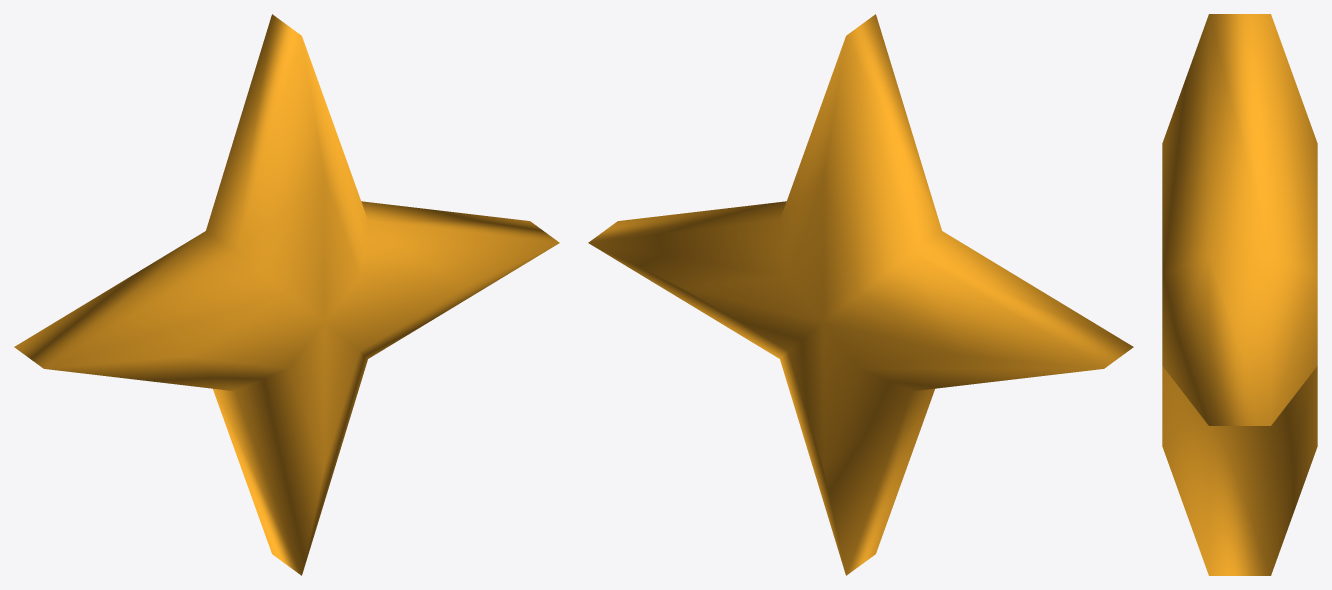
The model's file is 03-STAR-04.fbx.
3 views of the same model, side by side, from view 1: azimuth 30°, elevation 25°; view 2: azimuth 150°, elevation 25°; view 3: azimuth 270°, elevation 25° (orthographic). The views are drawn at different scales.
Visible parts, largest first — view 1: 03-STAR-04; view 2: 03-STAR-04; view 3: 03-STAR-04.
Boxes of the visible parts, bbox=[...] form: 03-STAR-04: bbox=[14, 14, 559, 575]; 03-STAR-04: bbox=[588, 14, 1133, 575]; 03-STAR-04: bbox=[1162, 14, 1317, 575].
Bounding box in the file's own units: 400 × 400 × 100.
